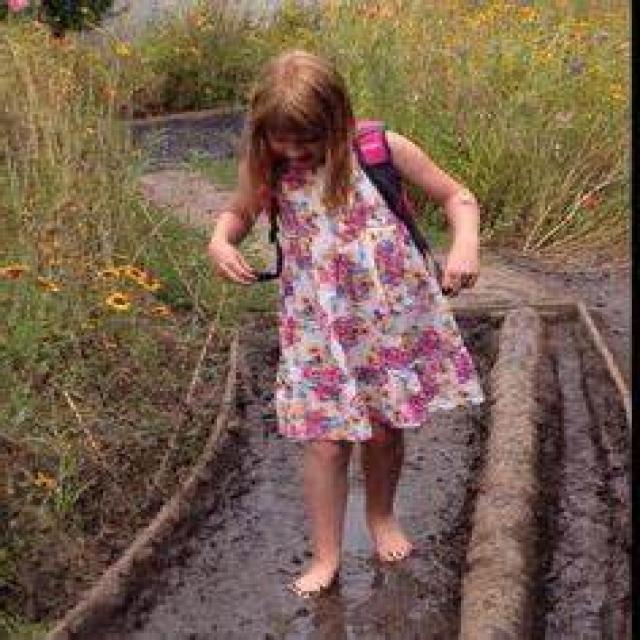No_Glove: (204, 229, 269, 288), (439, 234, 488, 298)
No_Shoe: (286, 545, 344, 601), (369, 497, 414, 568)
